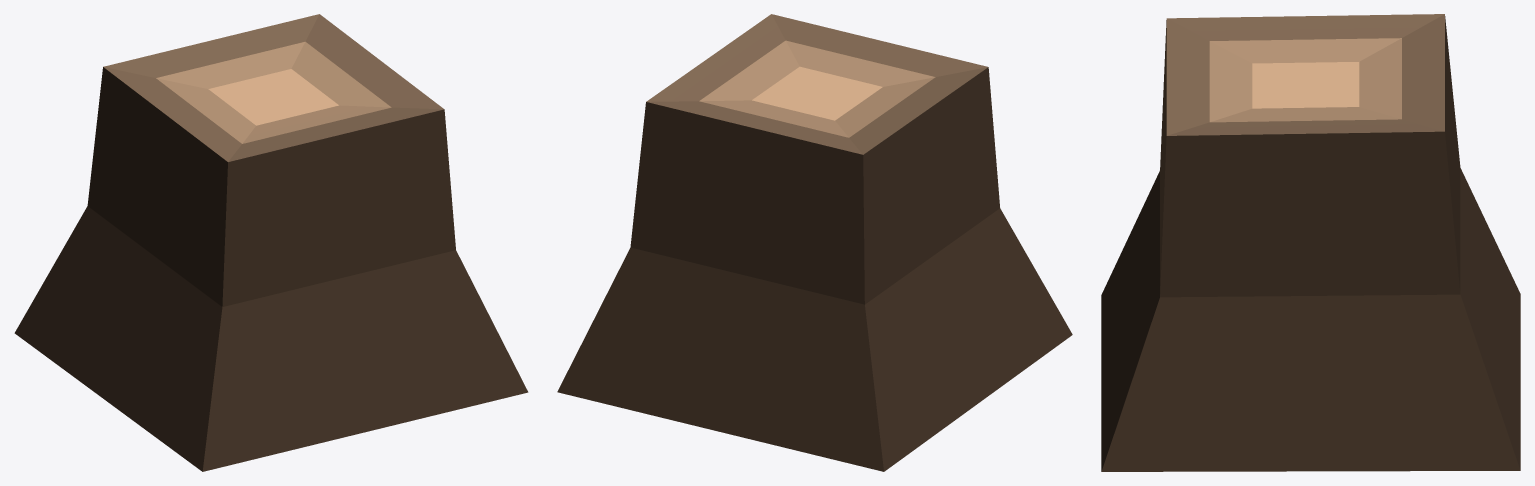
File: TreeStump.fbx
3 renders of one model, left to right at view 1: azimuth 30°, elevation 25°; view 2: azimuth 150°, elevation 25°; view 3: azimuth 270°, elevation 25°, orthographic. The views are drawn at different scales.
Visible parts, largest first — view 1: TreeStump; view 2: TreeStump; view 3: TreeStump.
Boxes of the visible parts, x1,y1,x2,y2 form: TreeStump: [14, 14, 528, 471]; TreeStump: [557, 14, 1072, 471]; TreeStump: [1101, 14, 1520, 471].
Size of the model in its own units: 0.8021 by 0.656 by 0.802.
